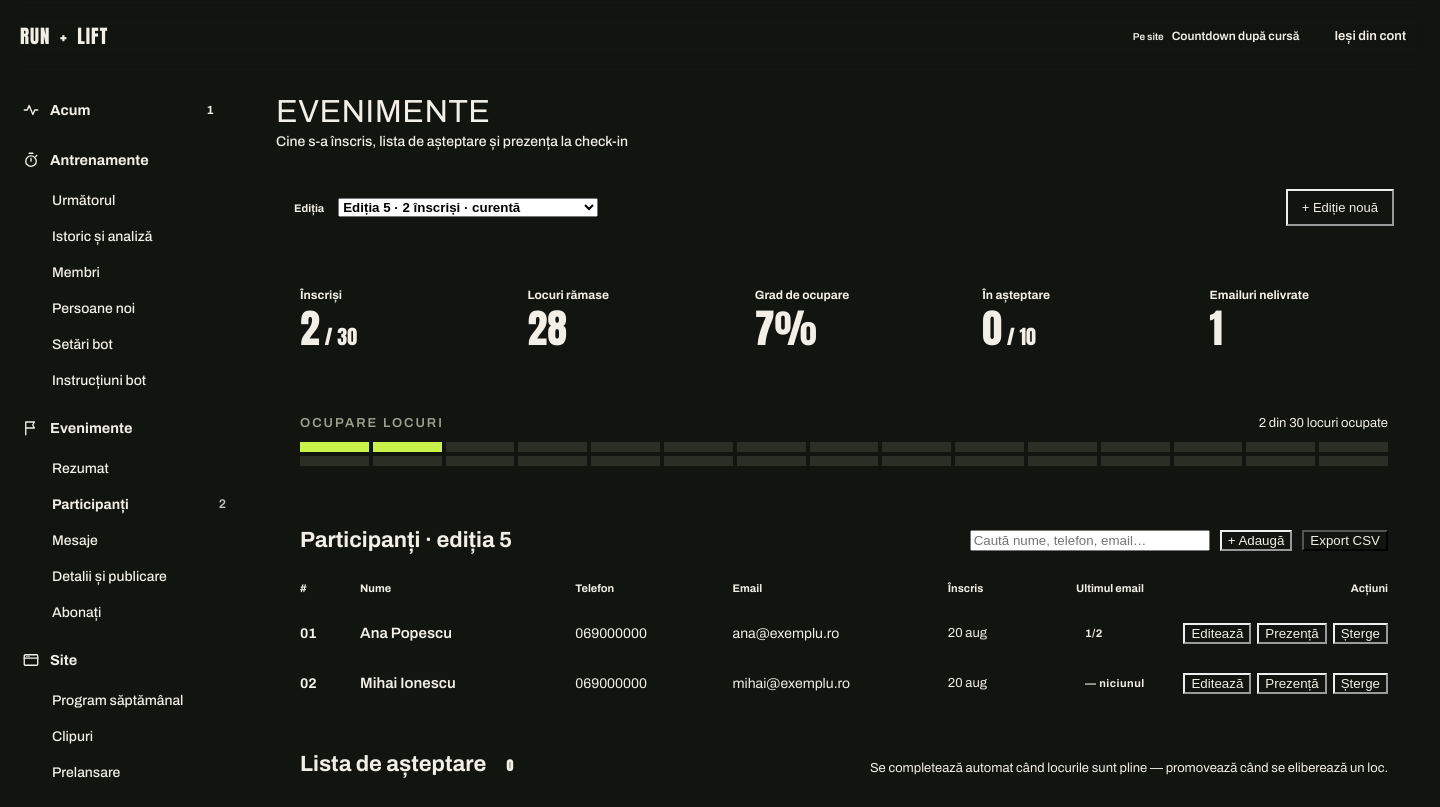
AdminDashboard — căutarea în participanți › o căutare fără rezultate golește tabelul, fără să pice
Expected: the text "Ana Popescu" is shown, left=360, top=625, right=452, bottom=641
Type "nimeni-pe-lumea-asta" into the search field named "Caută în lista de participanți" at point(1090, 540), box left=970, top=530, right=1210, bottom=550
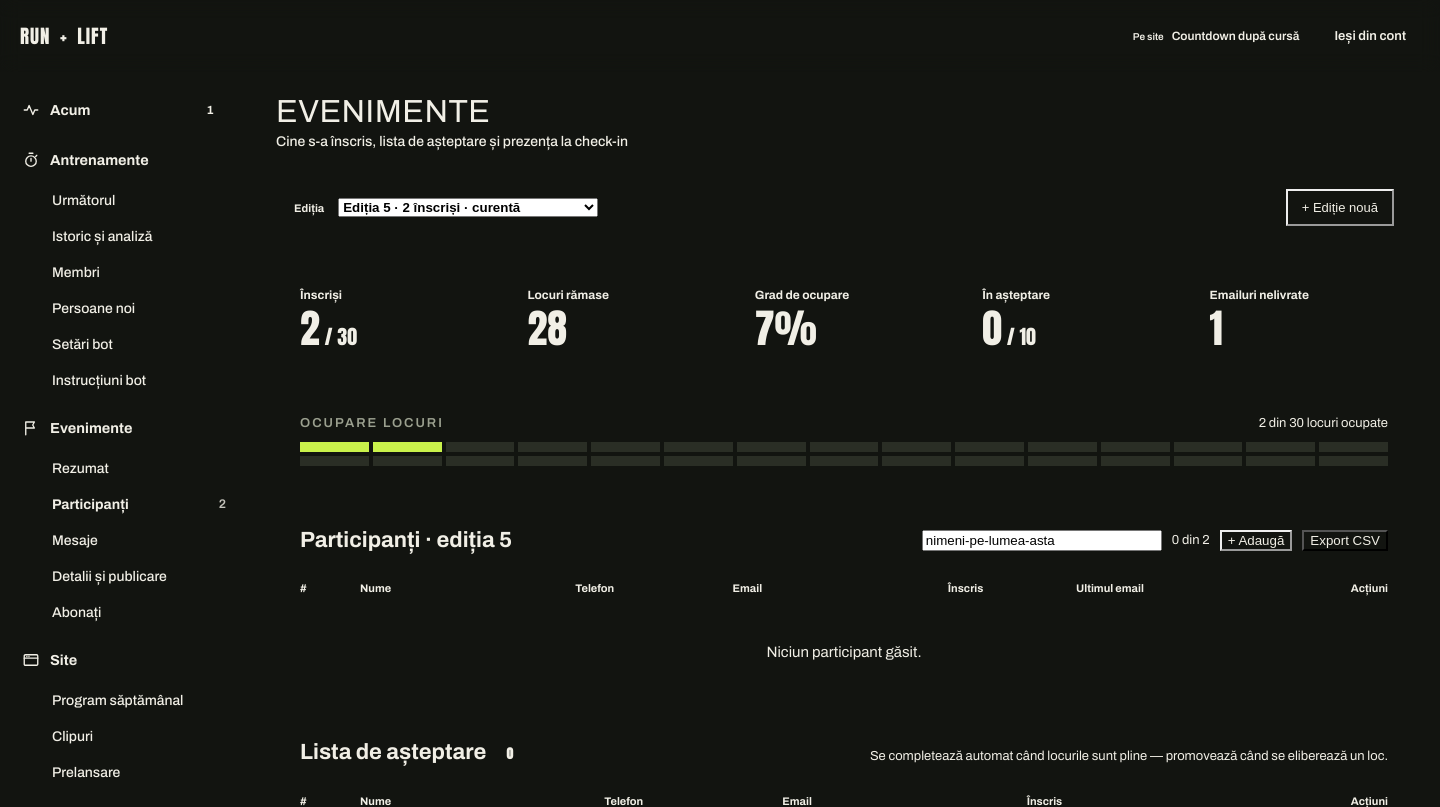
Expected: the text "Ana Popescu" is gone
Expected: the text "Mihai Ionescu" is gone
